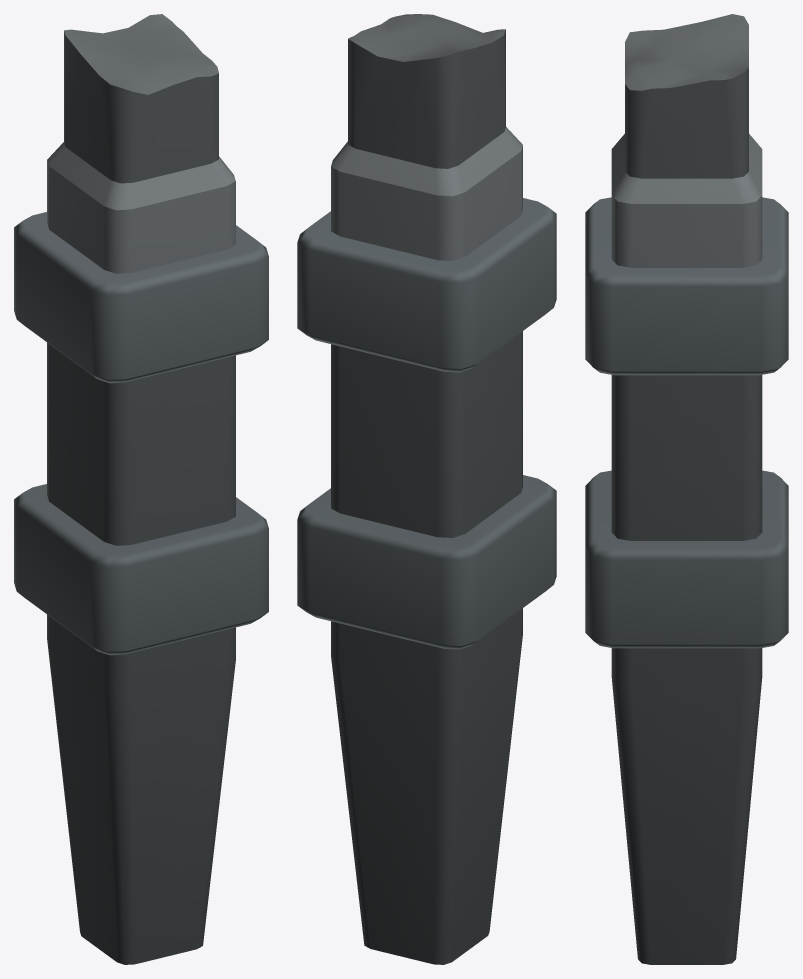
Rendered from passage_destroyed_001.glb.
3 renders of one model, left to right at view 1: azimuth 30°, elevation 25°; view 2: azimuth 150°, elevation 25°; view 3: azimuth 270°, elevation 25°, orthographic.
Visible parts, largest first — view 1: passage_destroyed_001; view 2: passage_destroyed_001; view 3: passage_destroyed_001.
Boxes of the visible parts, box(x1,y1,x2,y2) form: passage_destroyed_001: box(14, 14, 268, 964); passage_destroyed_001: box(297, 14, 556, 964); passage_destroyed_001: box(585, 14, 788, 964).
Size of the model in its own units: 2.71 by 13.29 by 2.71.
Materials: 1 (1 with a texture image).
